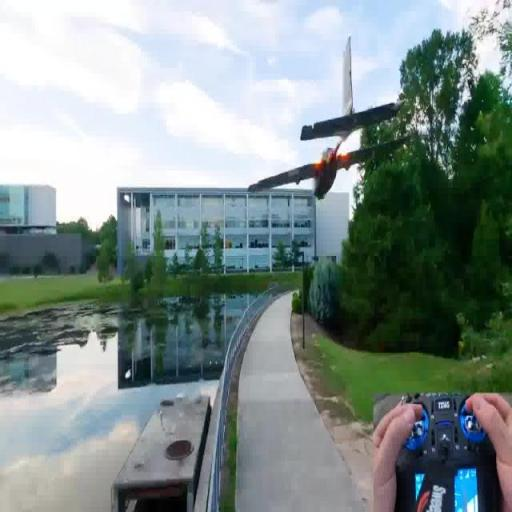uav: (244, 33, 421, 209)
